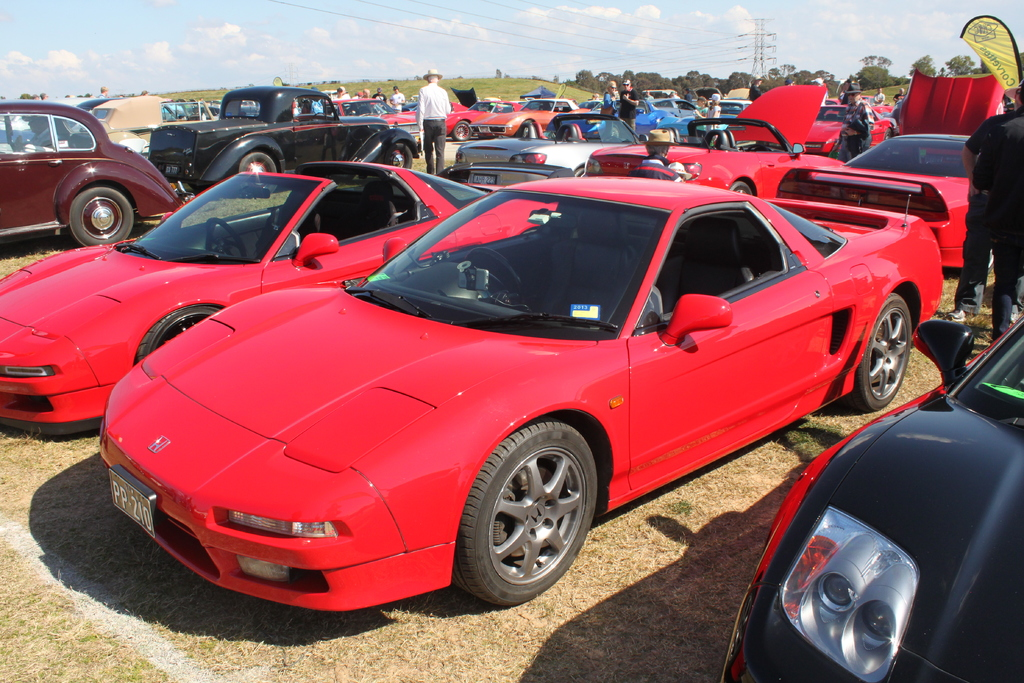Car: (0, 66, 1023, 682)
